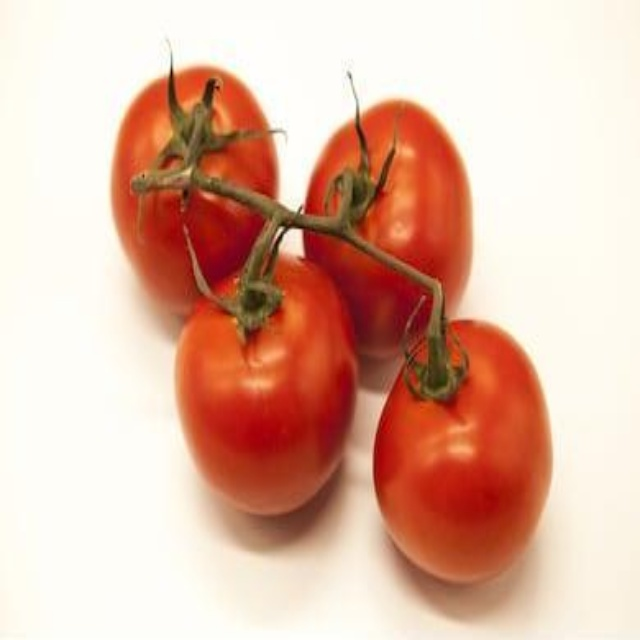tomato: (177, 262, 363, 509), (387, 323, 546, 589), (315, 109, 469, 350), (118, 65, 276, 293)
